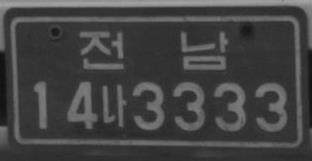1: (29, 79, 56, 130)
3: (211, 80, 247, 133), (254, 80, 289, 133), (171, 80, 206, 132), (131, 80, 166, 131)
4: (65, 79, 98, 130)
나: (100, 83, 127, 128)
전남_D: (78, 29, 229, 73)
